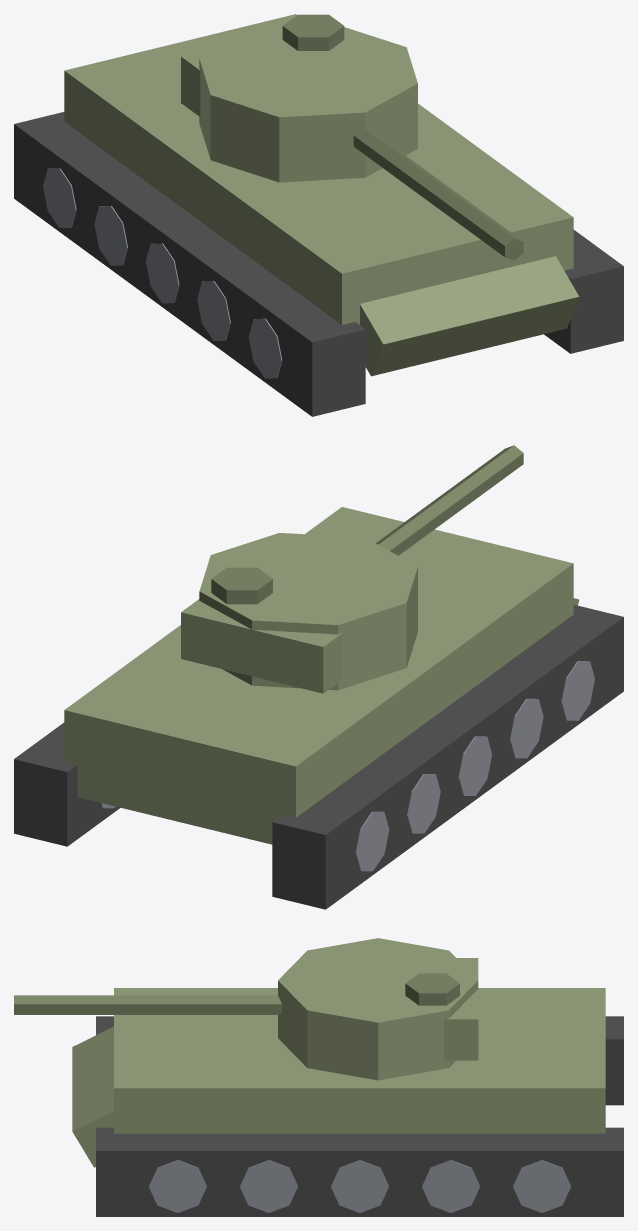
Rendered from tank.glb.
The picture shows the model from 3 angles, top to bottom: view 1: azimuth 30°, elevation 25°; view 2: azimuth 150°, elevation 25°; view 3: azimuth 270°, elevation 25°; orthographic projection. The views are drawn at different scales.
Visible parts, largest first — view 1: tank, turret; view 2: tank, turret; view 3: tank, turret.
Part boxes in pixels (bbox=[...]): tank: bbox=[14, 14, 623, 416]; turret: bbox=[181, 14, 523, 260]; tank: bbox=[14, 507, 623, 909]; turret: bbox=[181, 445, 523, 693]; tank: bbox=[72, 988, 623, 1216]; turret: bbox=[14, 938, 478, 1080].
Bounding box in the file's own units: 3.52 × 2.2 × 6.7.
